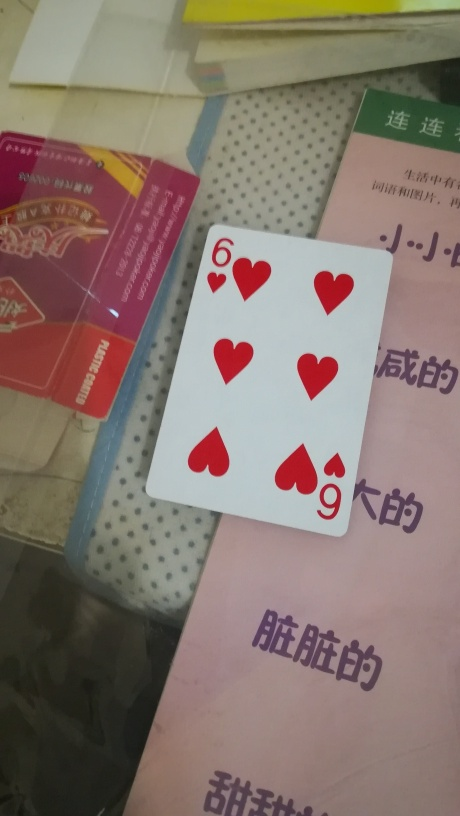hx 6: (147, 221, 388, 539)
